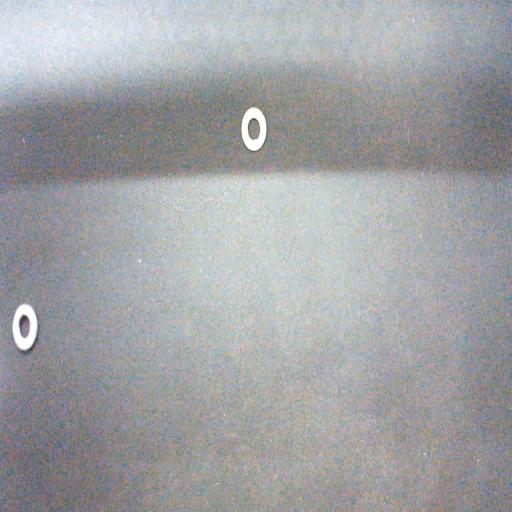washer: (12, 303, 38, 351), (241, 106, 267, 150)
